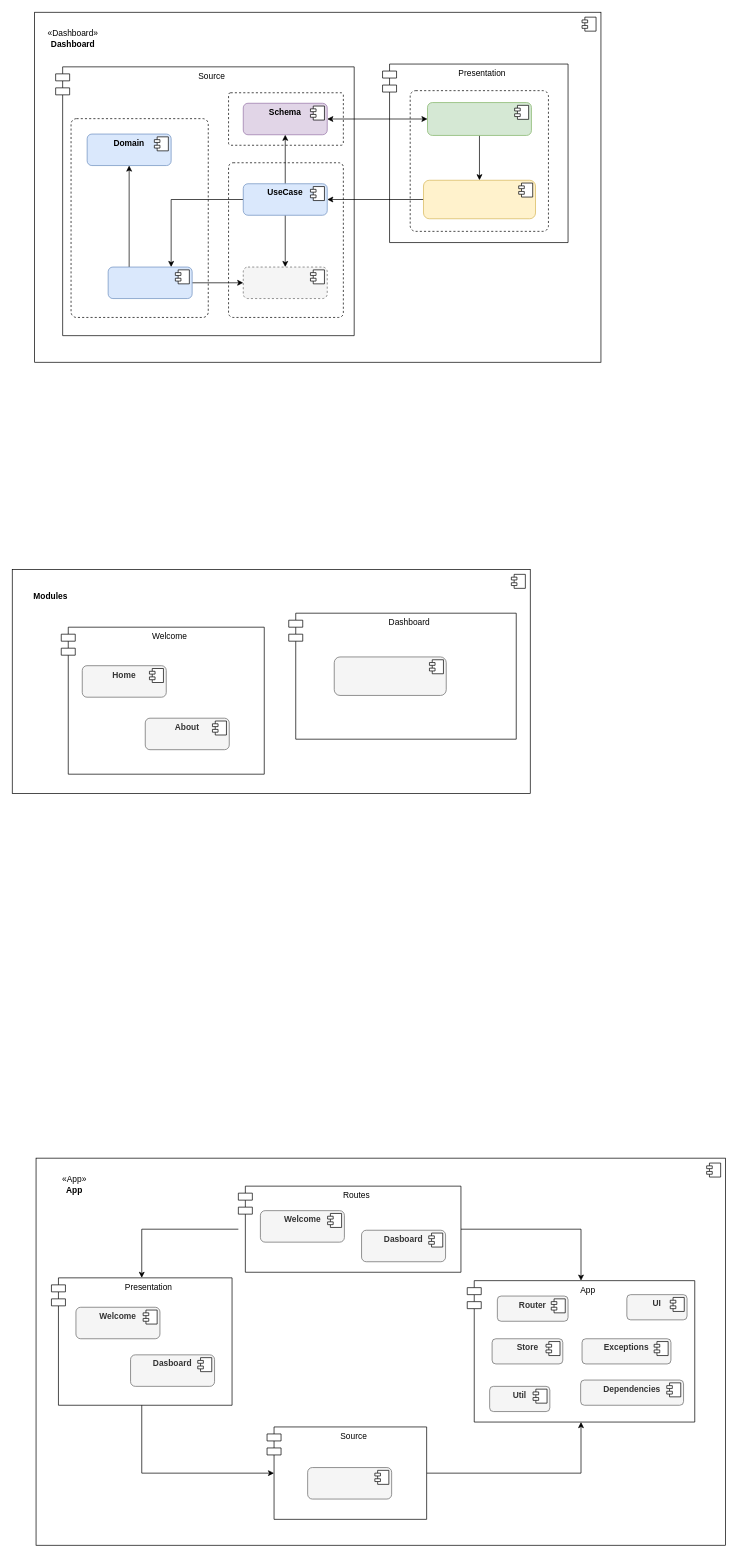
Some shapes in this 738 by 1558 pixel diagram are drawn without their labels. The shapes that lost their labels are listed below. From the top down, each one's centre as x and y in pixels, then its label:
the point at 479,118: Form
the point at 479,199: Controller
the point at 149,282: Repository
the point at 285,282: Contract
the point at 390,675: CategoryForm
the point at 349,1483: Category
